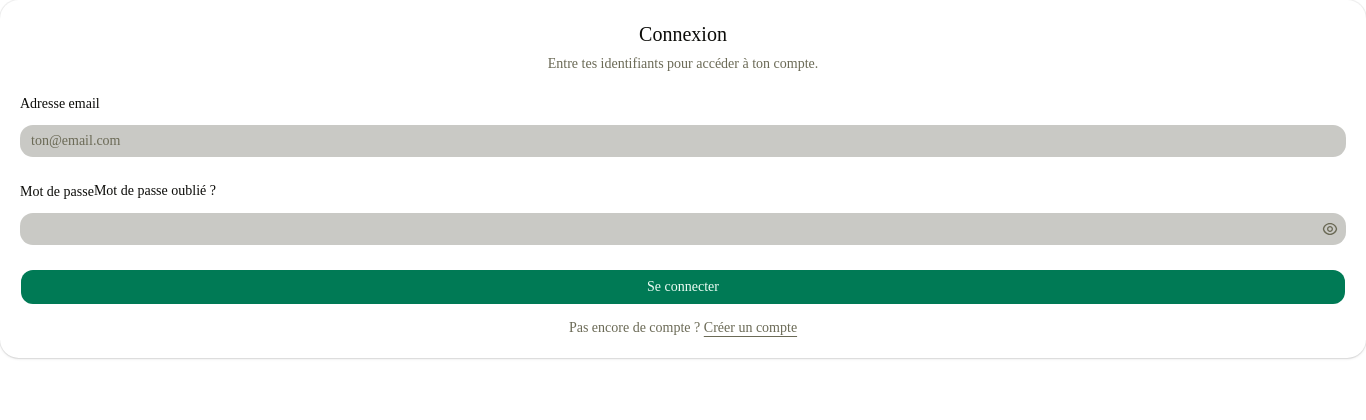
Test: SignInForm › shows the server error when credentials are rejected
Step 1. Type "ada@example.com" into the field labelled "Adresse email" → [683, 141], box [20,125,1346,157]
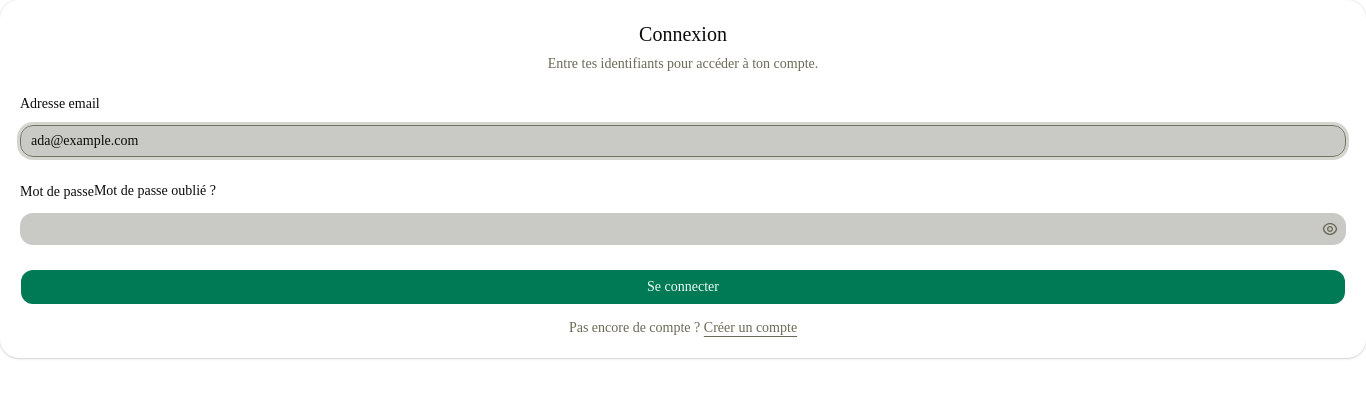
Step 2. Type "password123" into the password field labelled "Mot de passe" → [669, 229], box [21,213,1318,245]
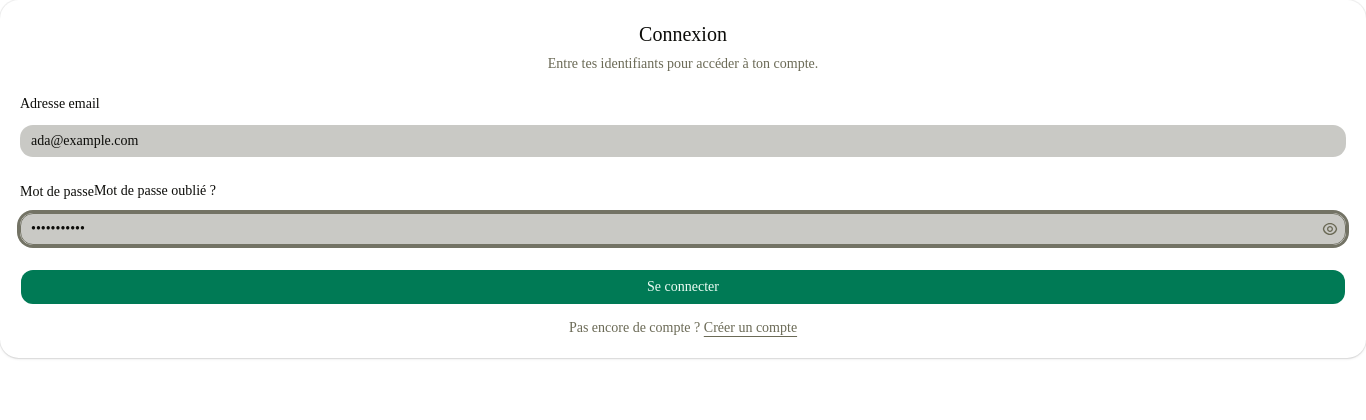
Step 3. Click the button "Se connecter" → [683, 287], box [20,269,1346,305]
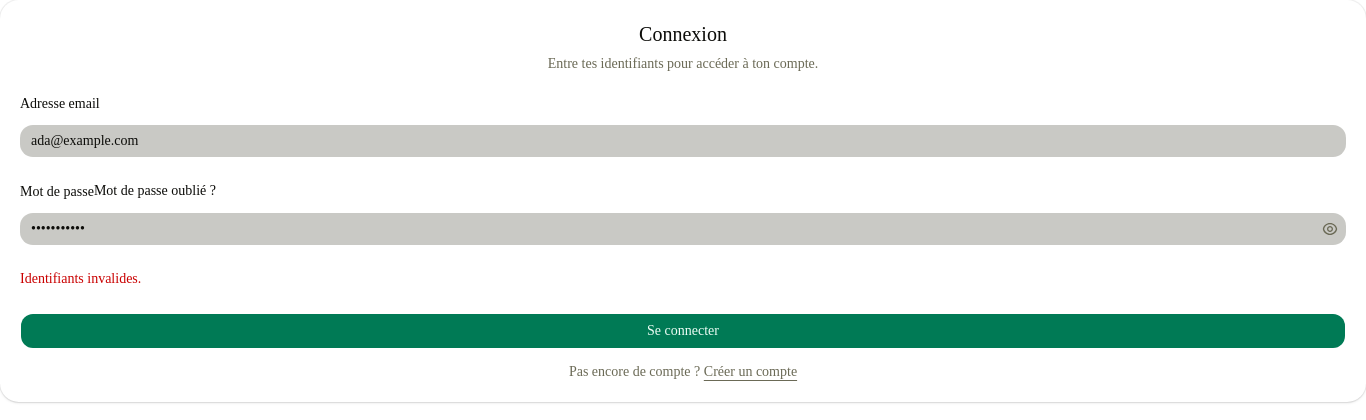
Expected: the text "Identifiants invalides." is shown, [20,271,141,286]
